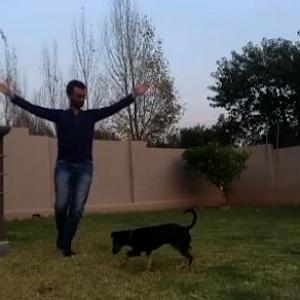takeoff: (1, 81, 146, 256)
